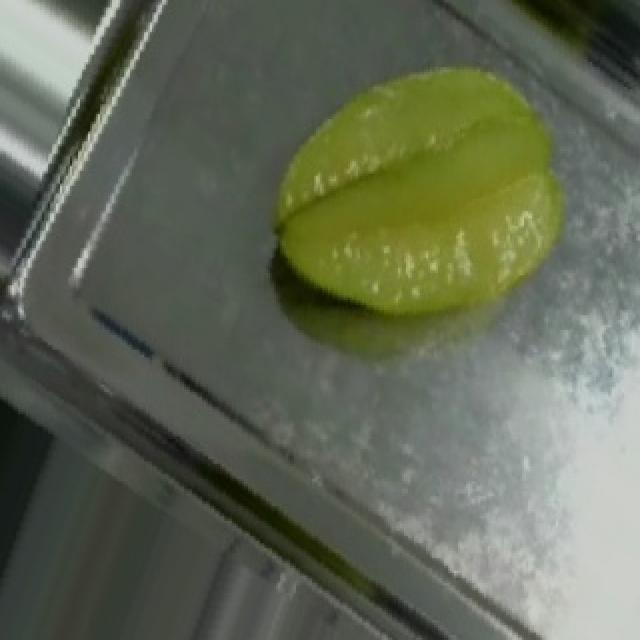fruit: (230, 8, 632, 384)
